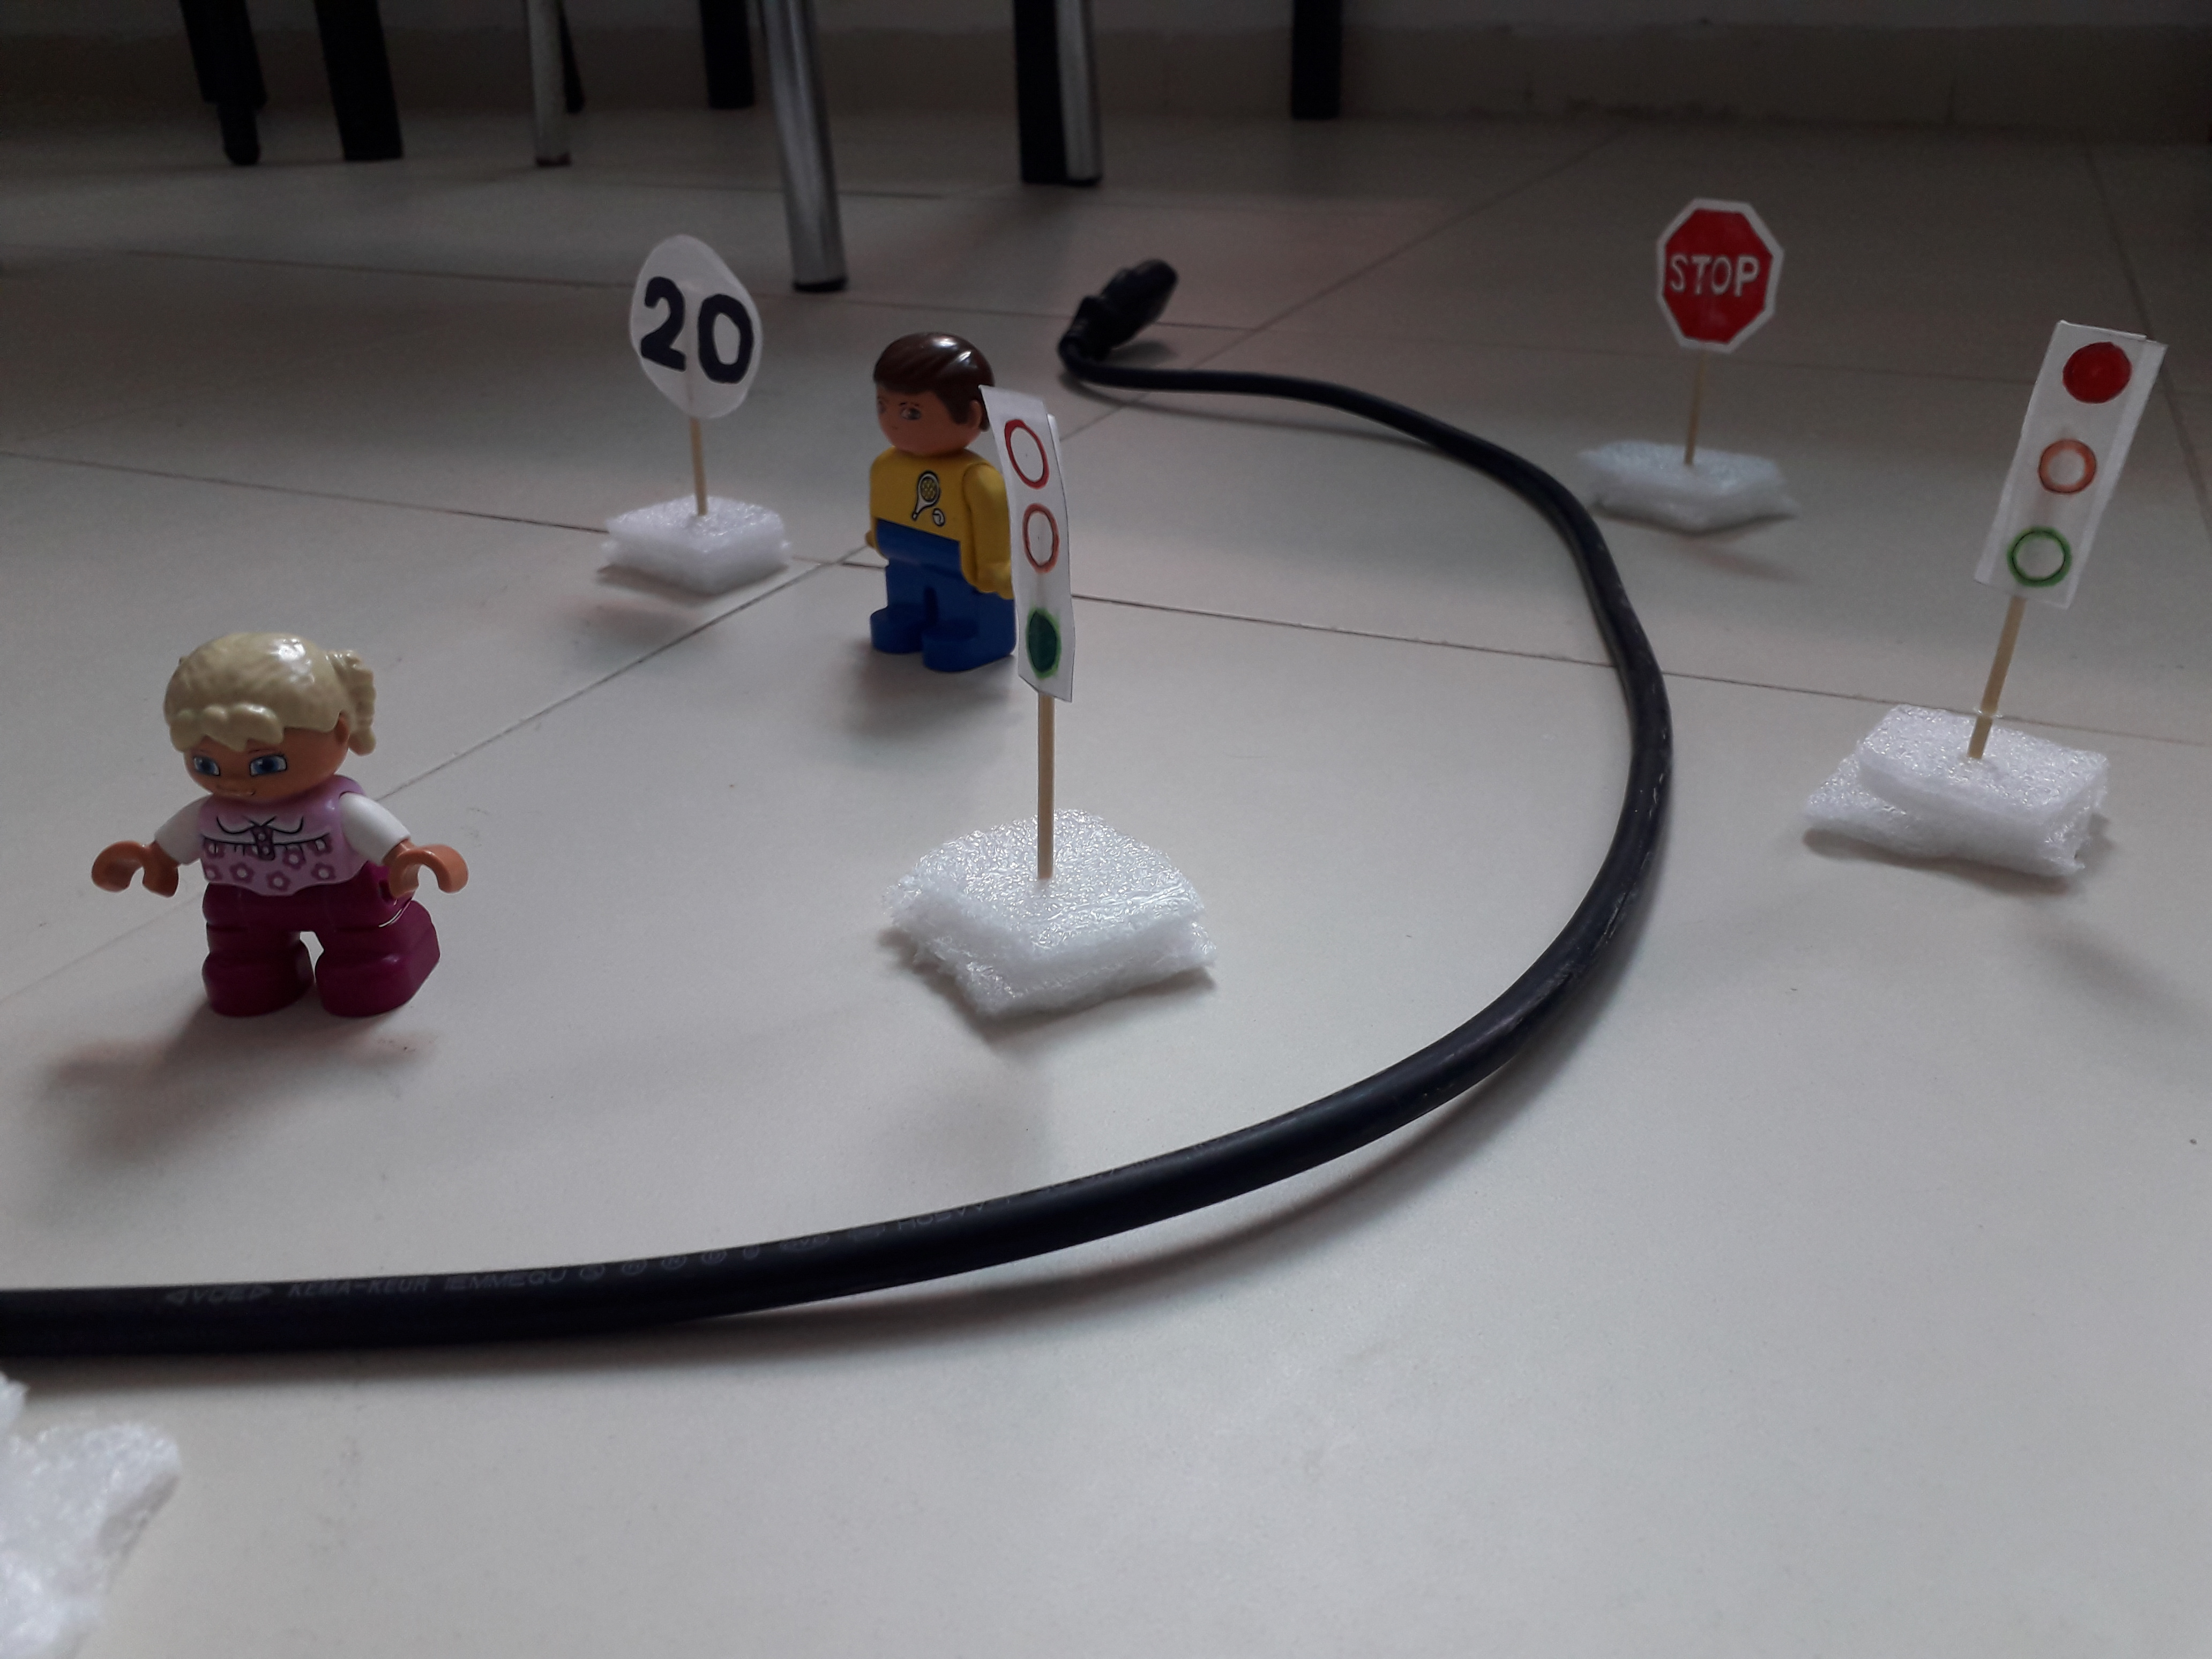20_sign: (615, 232, 773, 416)
green_light: (995, 390, 1084, 701)
person: (89, 627, 474, 1033), (849, 326, 1020, 689)
red_light: (1962, 319, 2179, 607)
stop_sign: (1650, 196, 1778, 354)
